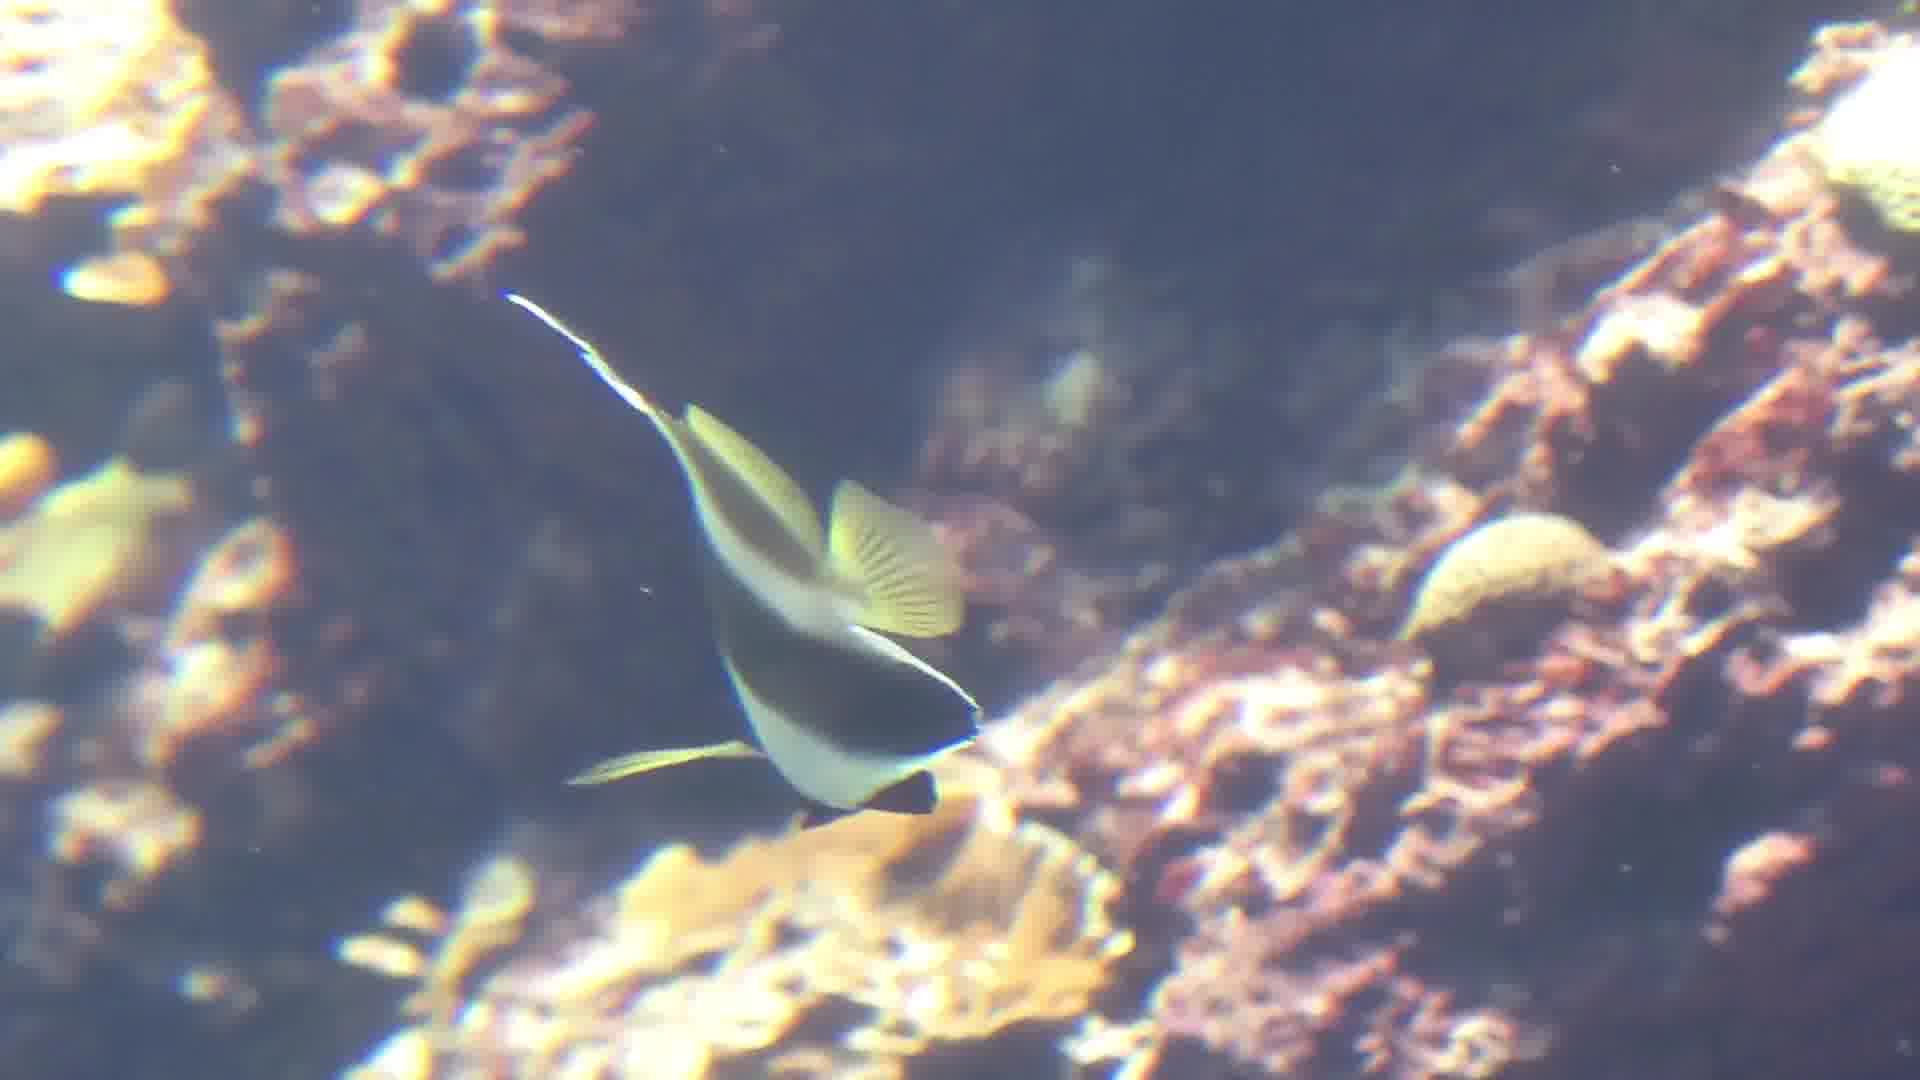Heniochus chrysostomus: (415, 135, 1098, 973)
